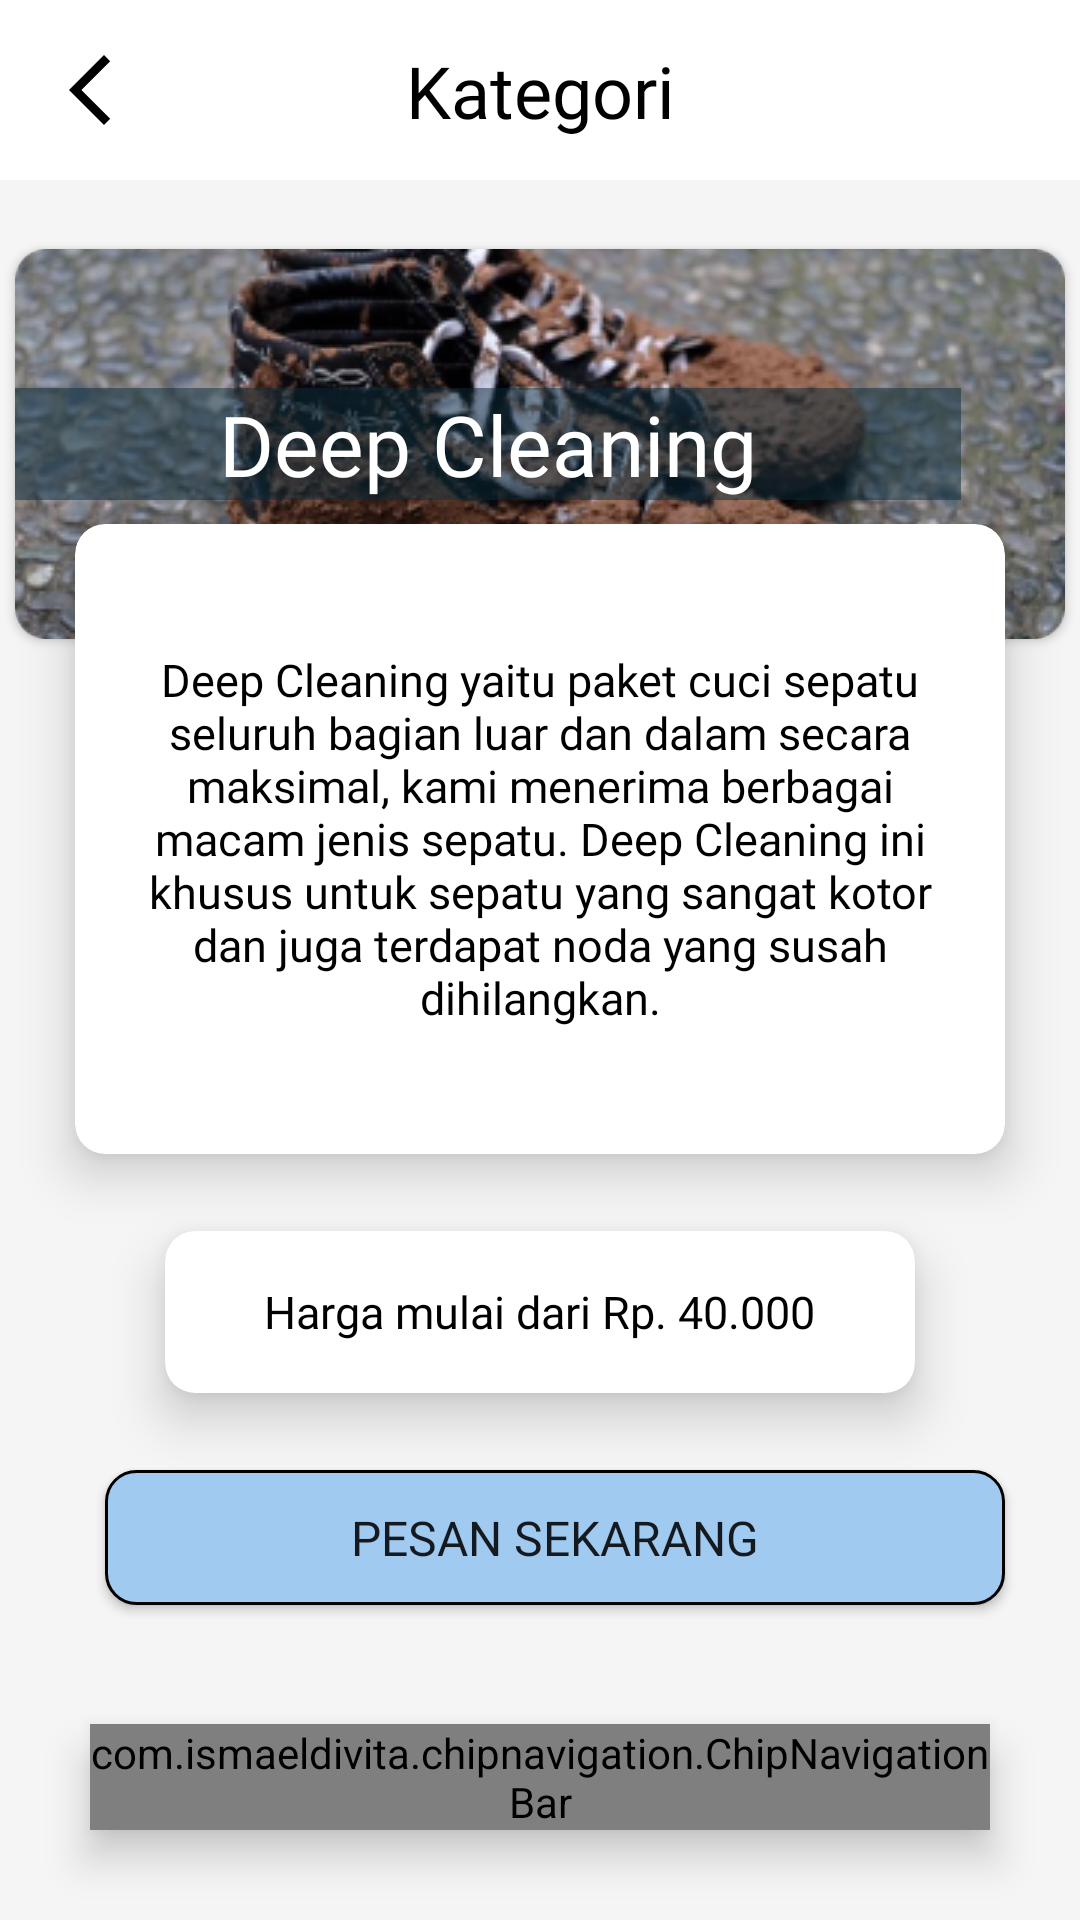

Named icons in this screenshot (1080w x 1920h) and their bounding boxes, bbox=(x1, y1, x2, y2):
back: bbox=(69, 55, 110, 125)
